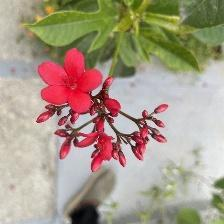jatropha: (36, 48, 104, 115)
